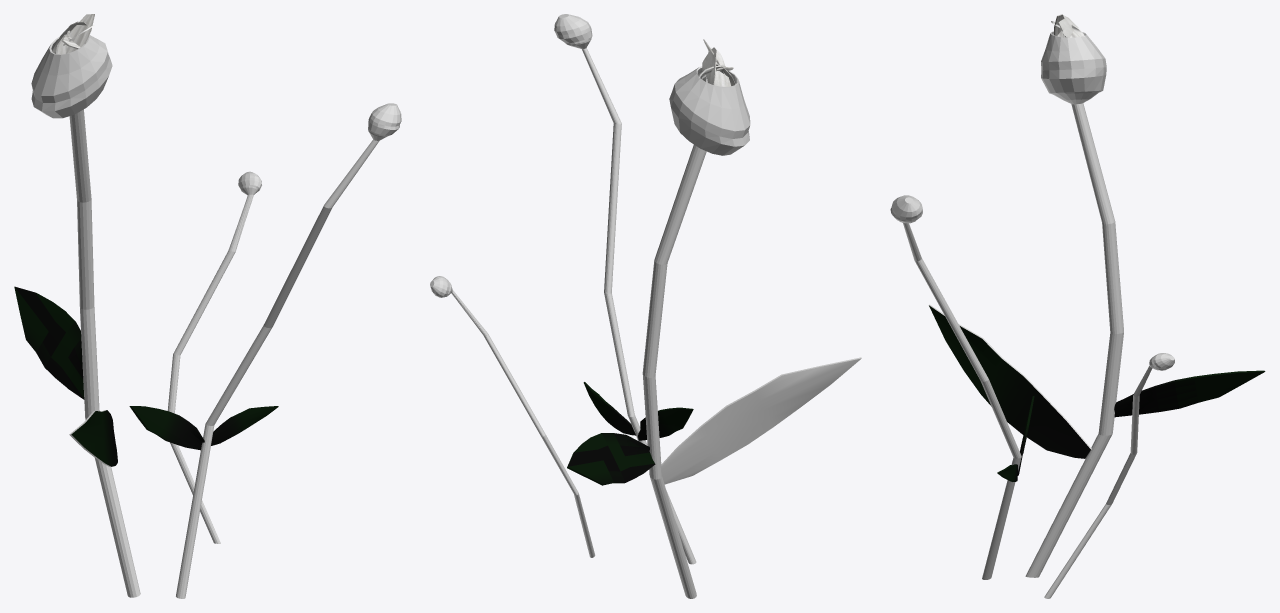
File: Daisy_Stage_01.FBX
3 renders of one model, left to right at view 1: azimuth 30°, elevation 25°; view 2: azimuth 150°, elevation 25°; view 3: azimuth 270°, elevation 25°, orthographic. The views are drawn at different scales.
Visible parts, largest first — view 1: Daisy; view 2: Daisy; view 3: Daisy.
Part boxes in pixels (x1,y1,x2,y2): Daisy: (14,14,401,598); Daisy: (430,14,861,598); Daisy: (890,14,1265,598).
Bounding box in the file's own units: 11.45 × 19.81 × 12.24.
